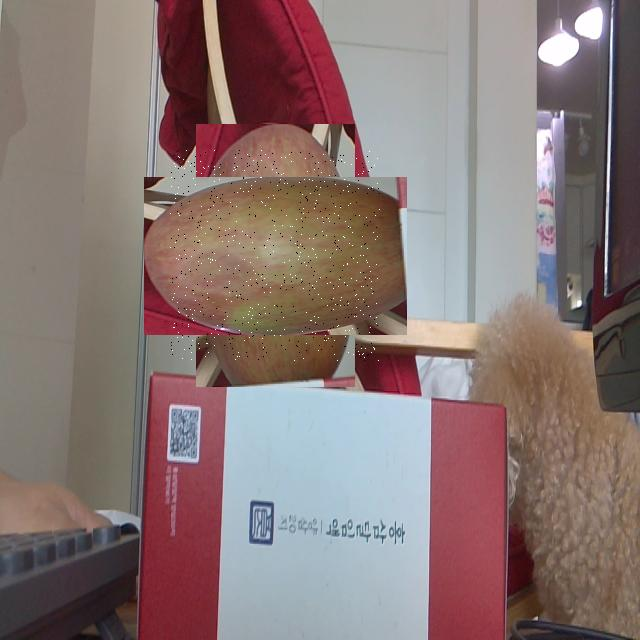apple: (170, 150, 381, 361)
